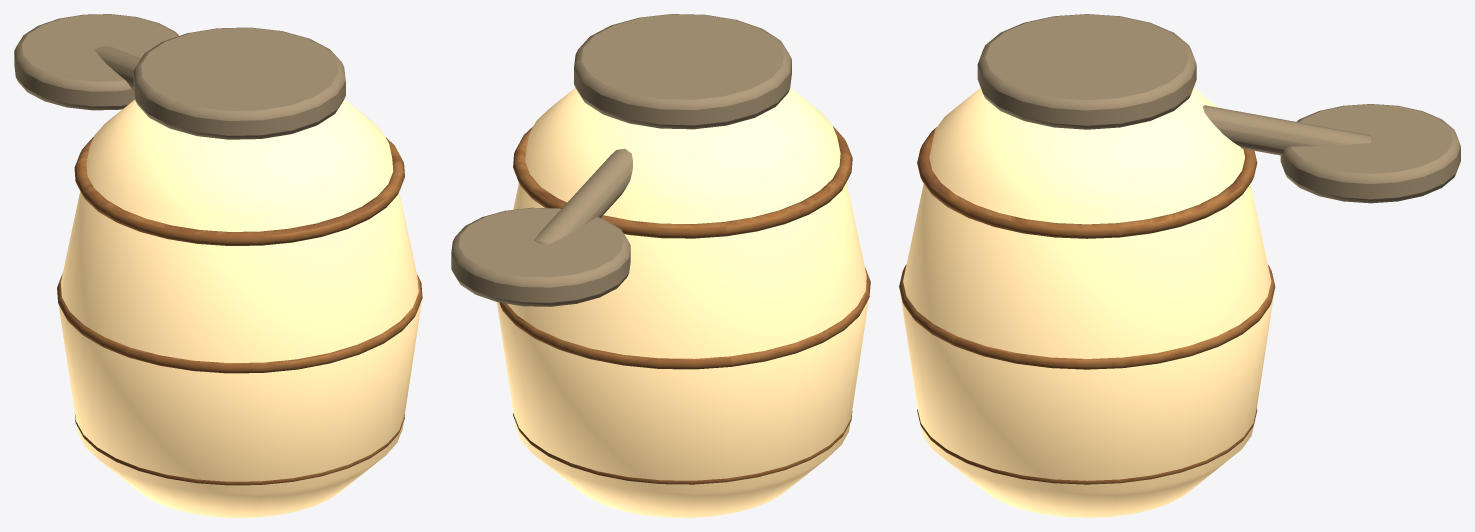
The model's file is WC_CAFE_Lamp_Wall_A.glb.
3 views of the same model, side by side, from view 1: azimuth 30°, elevation 25°; view 2: azimuth 150°, elevation 25°; view 3: azimuth 270°, elevation 25° (orthographic). The views are drawn at different scales.
Visible parts, largest first — view 1: WC_CAFE_Lamp_Wall_A_RenderMesh; view 2: WC_CAFE_Lamp_Wall_A_RenderMesh; view 3: WC_CAFE_Lamp_Wall_A_RenderMesh.
Part boxes in pixels (left/top/right/bottom): WC_CAFE_Lamp_Wall_A_RenderMesh: left=14, top=14, right=422, bottom=517; WC_CAFE_Lamp_Wall_A_RenderMesh: left=451, top=14, right=870, bottom=517; WC_CAFE_Lamp_Wall_A_RenderMesh: left=899, top=14, right=1460, bottom=517.
Bounding box in the file's own units: 0.292 × 0.3525 × 0.436.
Materials: 3 (1 with a texture image).
